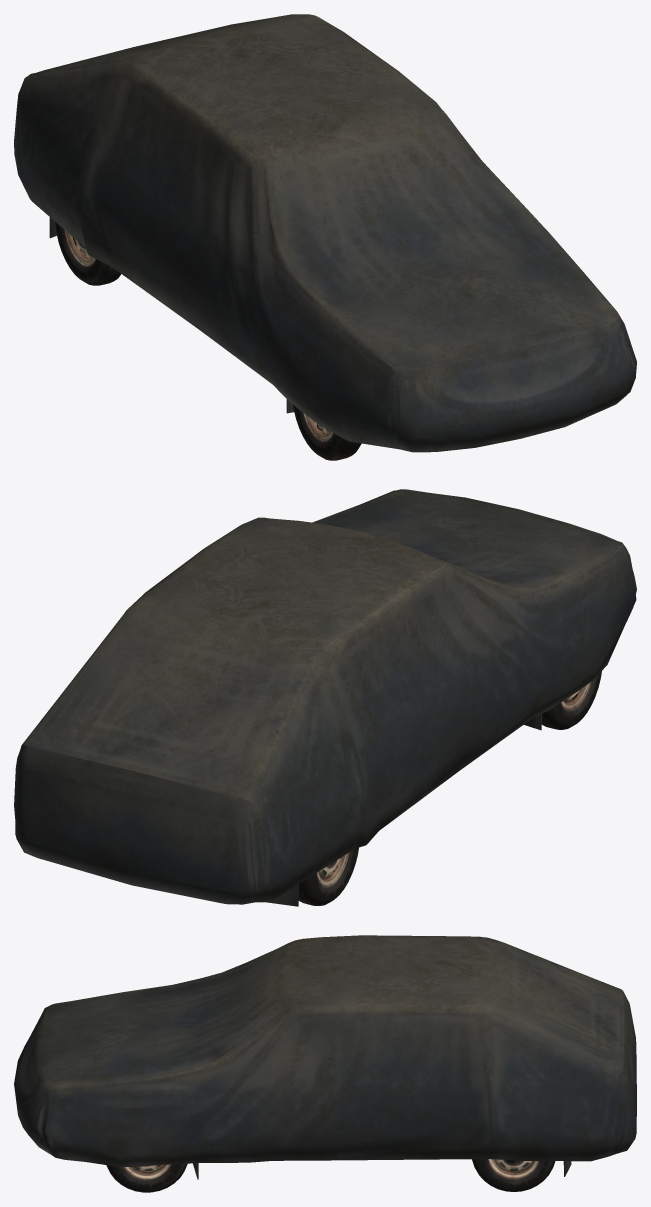
File: covered_car_lod0.glb
The picture shows the model from 3 angles, top to bottom: view 1: azimuth 30°, elevation 25°; view 2: azimuth 150°, elevation 25°; view 3: azimuth 270°, elevation 25°; orthographic projection. The views are drawn at different scales.
Visible parts, largest first — view 1: covered_car, covered_car_wheel_03, covered_car_wheel_02; view 2: covered_car, covered_car_wheel_03, covered_car_wheel_02; view 3: covered_car, covered_car_wheel_04, covered_car_wheel_01.
Boxes of the visible parts, <box> form: covered_car: <box>14,14,636,452</box>; covered_car_wheel_03: <box>55,222,120,285</box>; covered_car_wheel_02: <box>293,405,361,460</box>; covered_car: <box>14,489,636,906</box>; covered_car_wheel_03: <box>298,847,358,905</box>; covered_car_wheel_02: <box>541,671,601,729</box>; covered_car: <box>14,935,636,1179</box>; covered_car_wheel_04: <box>472,1159,555,1191</box>; covered_car_wheel_01: <box>106,1163,187,1192</box>.
Bounding box in the file's own units: 1.79 × 1.41 × 4.38.
Materials: 2 (2 with a texture image).
